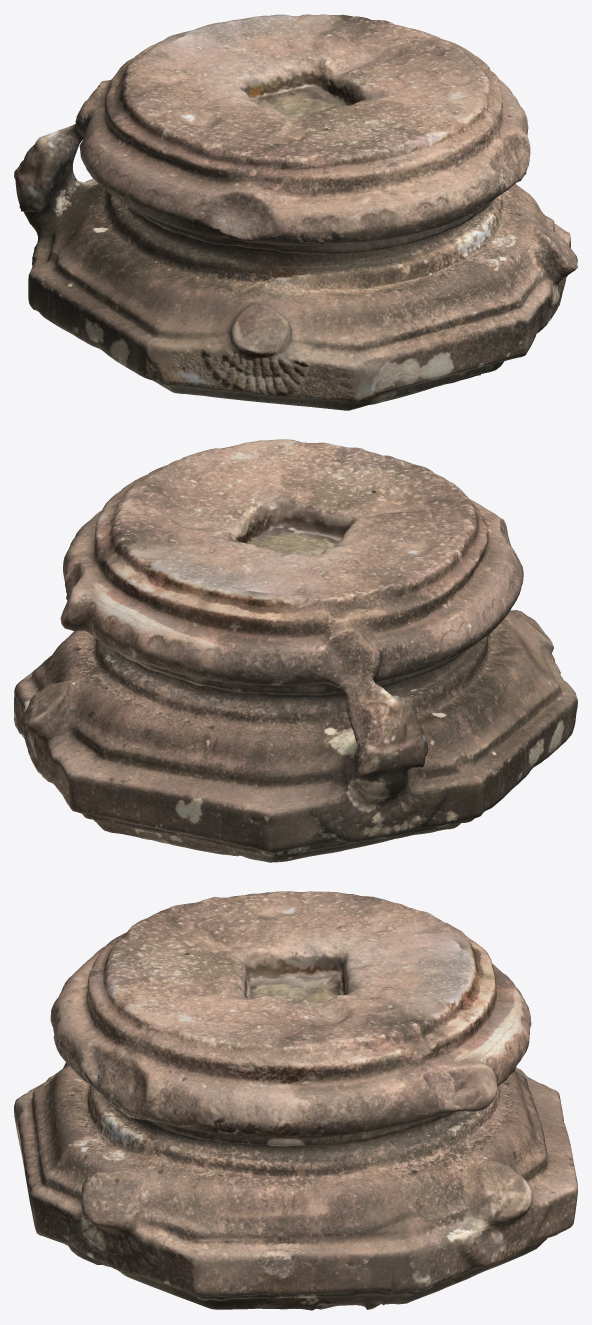
File: 33_MysonSanctuaryB_Detru_final.glb
3 renders of one model, top to bottom at view 1: azimuth 30°, elevation 25°; view 2: azimuth 150°, elevation 25°; view 3: azimuth 270°, elevation 25°, orthographic. The views are drawn at different scales.
Size of the model in its own units: 0.6696 by 0.3469 by 0.6918.
1 material, 1 textured.
